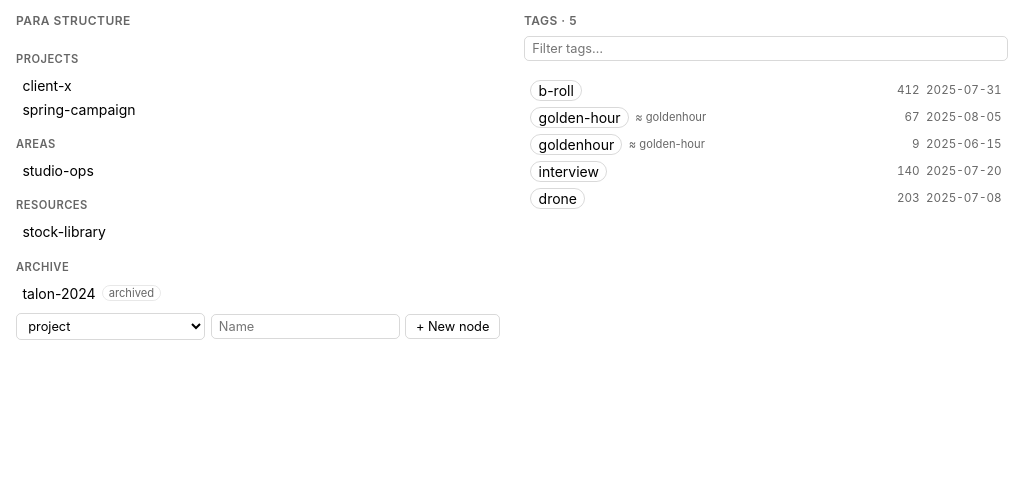
a refused rename says why, verbatim, and keeps the node selected
Click the button "client-x" at (47, 86), box [16,74,500,97]
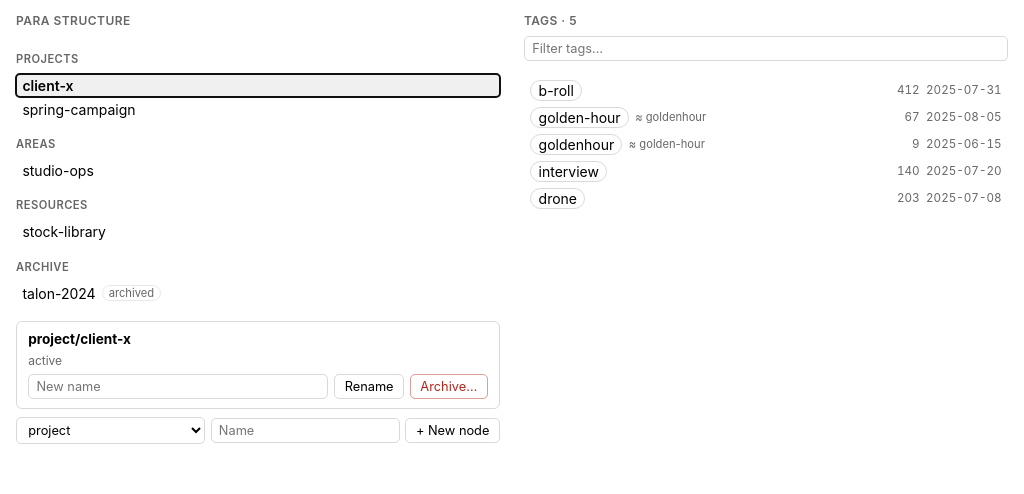
Type "client-y" into the field named "New name for this node" at (178, 386), box [28,374,328,399]
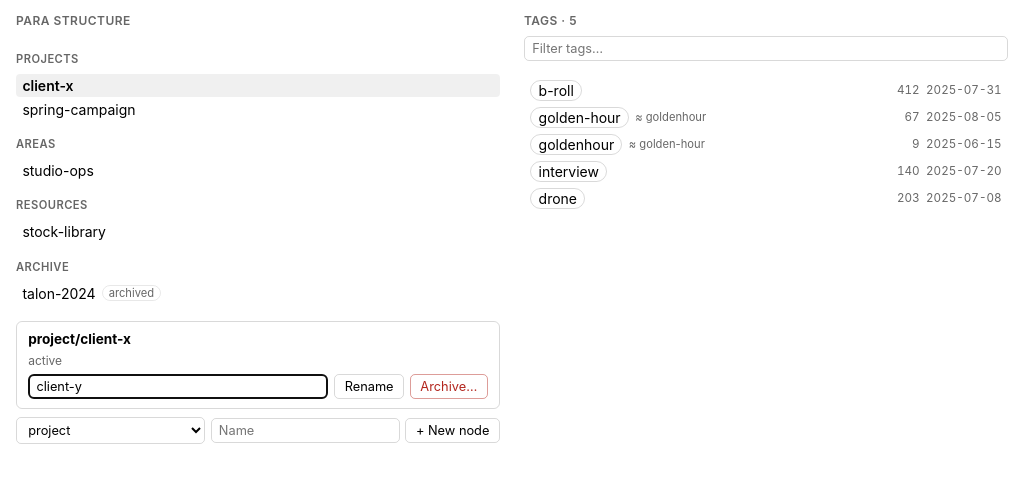
Click the button "Rename" at (369, 386), box [334,374,404,399]
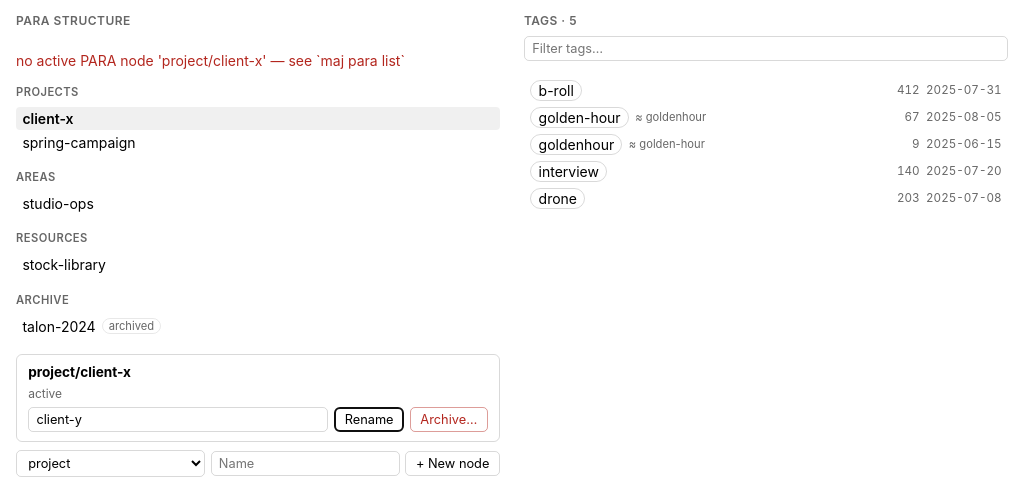
Result: the element named "Selected node" shows "project/client-x" at [28,364,131,380]
Result: the message reads "no active PARA node 'project/client-x' — see `maj para list`" at [16,52,405,69]
